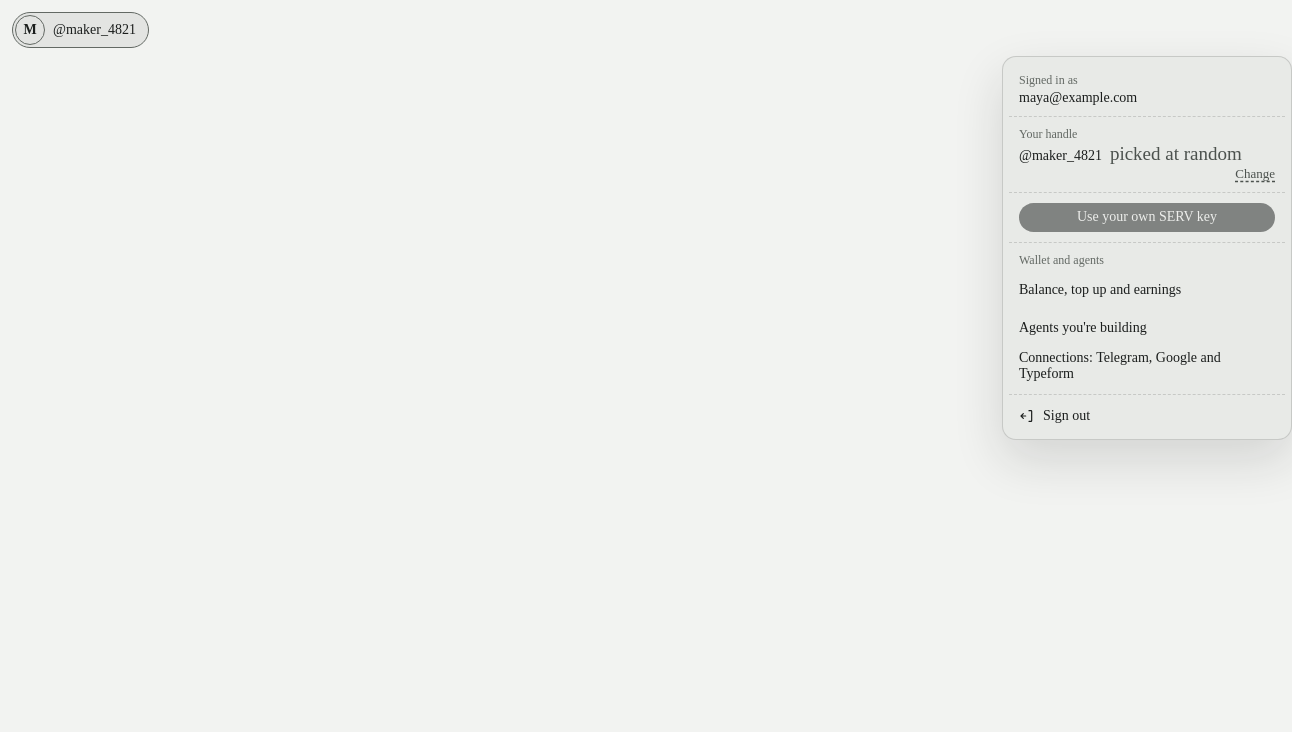
Test: Your handle › saves on Enter, in lower case
Step 1. Click the button "Change" → click(1255, 174), box x1=1235 y1=166 x2=1275 y2=182
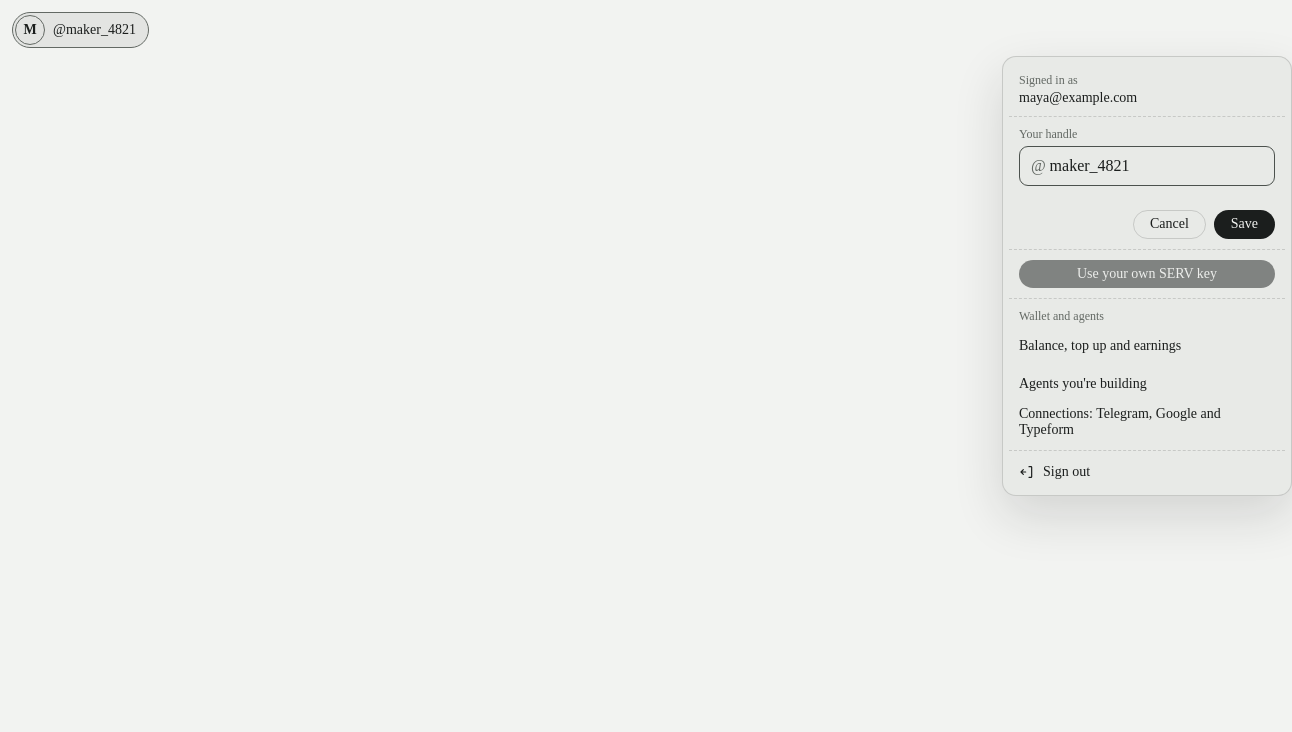
Step 2. Replace the text in the field labelled "Your handle" with "Maya_R" → (1147, 166), box x1=1019 y1=146 x2=1275 y2=186
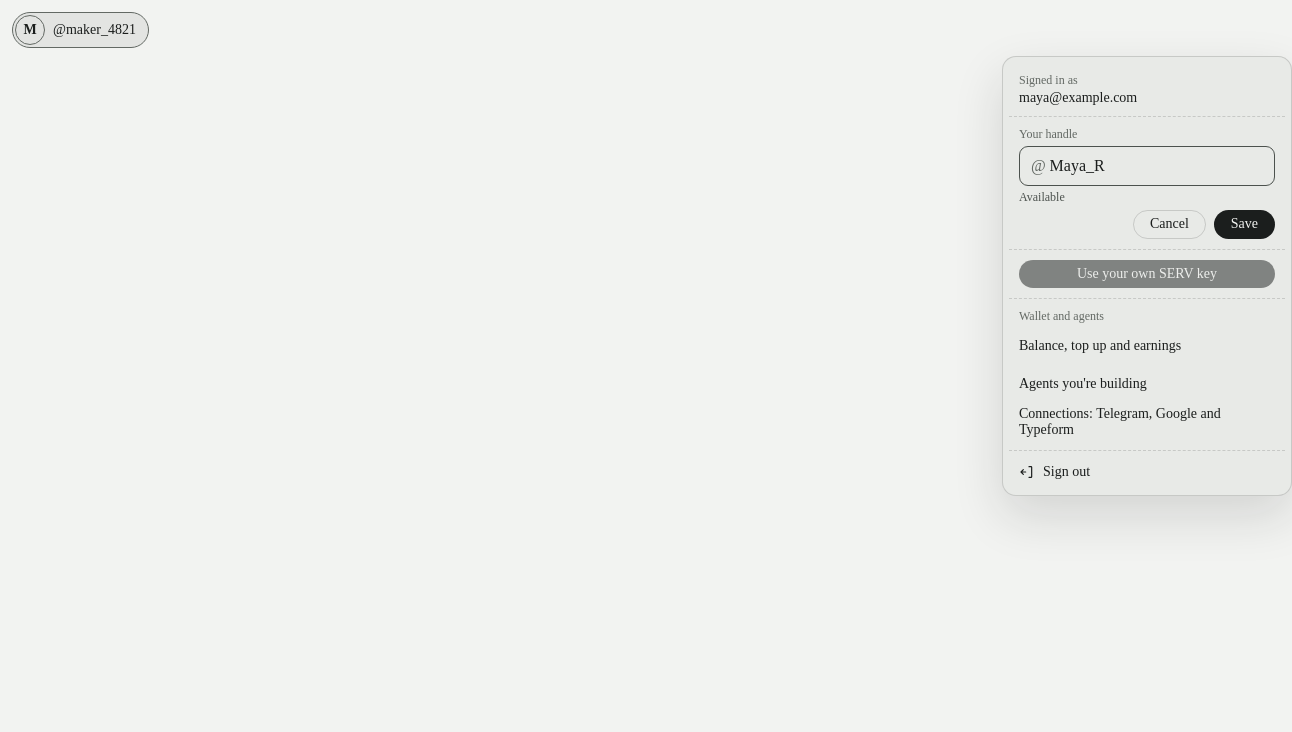
Check: the text "Available" is shown, box x1=1019 y1=190 x2=1065 y2=204
Step 3. Submit the form named "Your handle", box x1=1019 y1=146 x2=1275 y2=239
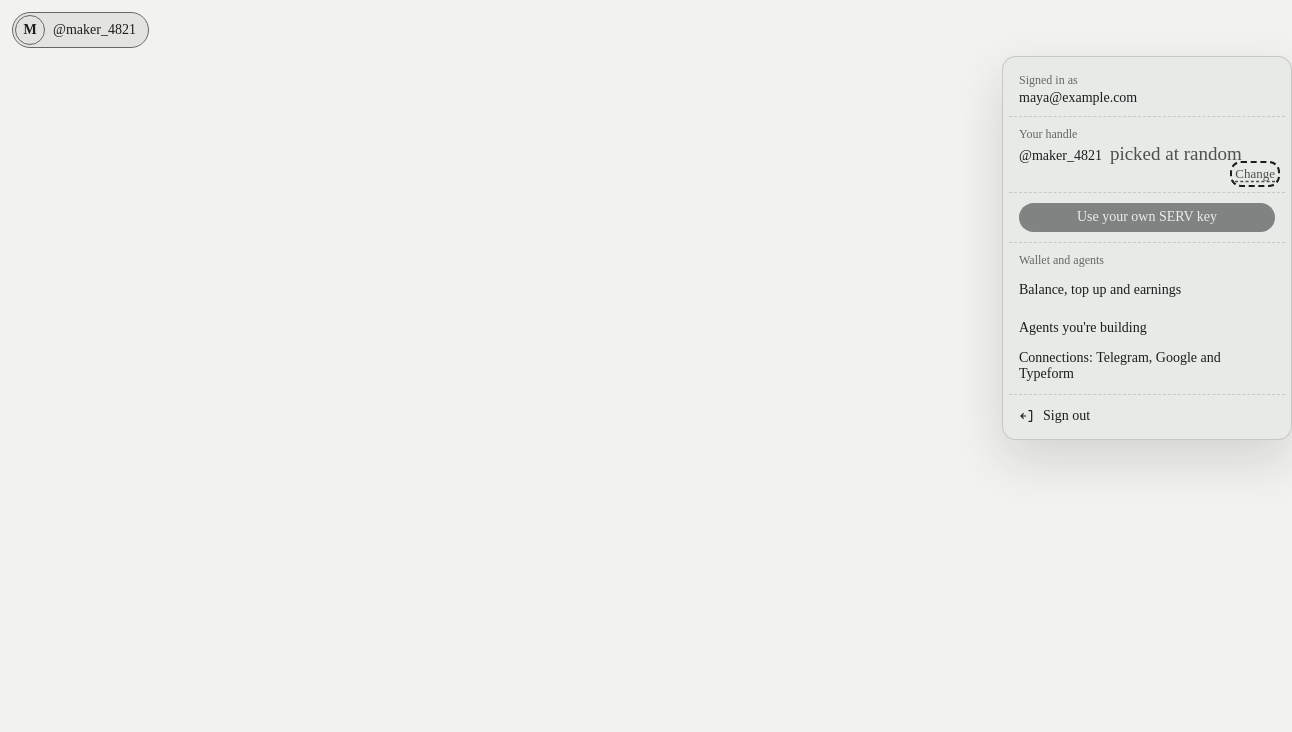
Check: the field is gone
